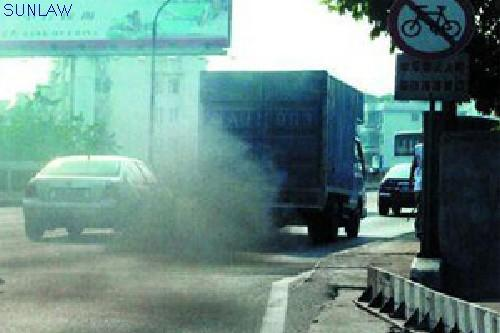smoke: (123, 129, 273, 261)
